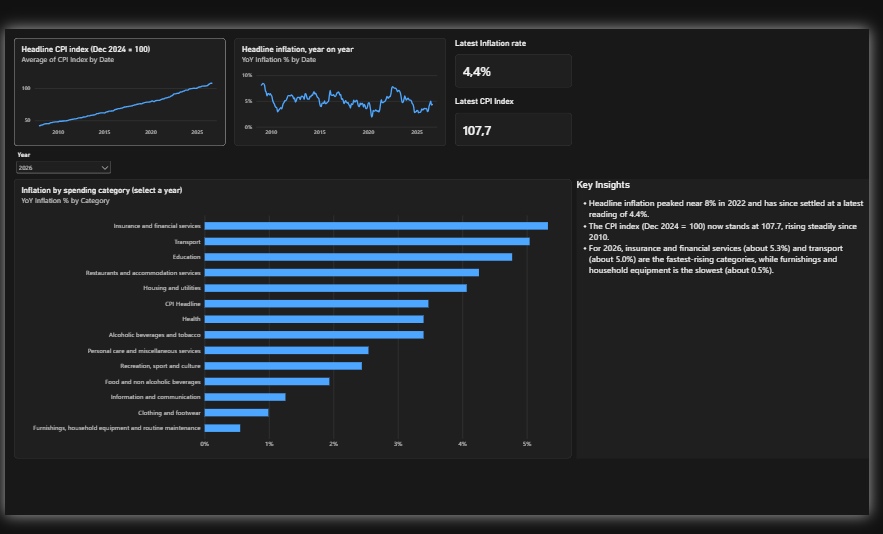

What the dashboard file says about the page in this screenshot:
{"tool":"powerbi","page":{"name":"Cost of living","canvas":[1920,1080],"ordinal":0},"visuals":[{"type":"lineChart","title":"Headline CPI index (Dec 2024 = 100)","fields":{"Category":["CPI.Date"],"Y":["Avg(CPI.CPI Index)"]},"box":[20,20,470,240],"z":2},{"type":"lineChart","title":"Headline inflation, year on year","fields":{"Category":["DateTable.Date"],"Y":["CPI.YoY Inflation %"]},"box":[510,20,470,240],"z":3},{"type":"clusteredBarChart","title":"Inflation by spending category (select a year)","fields":{"Category":["CPI.Category"],"Y":["CPI.YoY Inflation %"]},"box":[19.8,334.5,1238.7,620.8],"z":4},{"type":"slicer","fields":{"Values":["DateTable.Year"]},"box":[20,270,220,55],"z":5},{"type":"cardVisual","title":"Latest Inflation rate ","fields":{"Data":["CPI.Latest Headline Inflation %"]},"box":[1000,20,260,110],"z":6},{"type":"cardVisual","title":"Latest CPI Index","fields":{"Data":["CPI.Latest CPI Index"]},"box":[1000,150,260,110],"z":7},{"type":"textbox","title":"Key Insights","box":[1269,334,651,621],"z":8}]}

Visuals, with their boxes on the page's 1920x1080 design canvas (x1, y1, x2, y2). These are canvas units, not pixel positions in the 883x534 screenshot, which may show the page scaled, cropped or inside an application window:
"Headline CPI index (Dec 2024 = 100)" lineChart: detection(20, 20, 490, 260)
"Headline inflation, year on year" lineChart: detection(510, 20, 980, 260)
"Inflation by spending category (select a year)" clusteredBarChart: detection(20, 334, 1258, 955)
slicer - DateTable.Year: detection(20, 270, 240, 325)
"Latest Inflation rate " cardVisual: detection(1000, 20, 1260, 130)
"Latest CPI Index" cardVisual: detection(1000, 150, 1260, 260)
"Key Insights" textbox: detection(1269, 334, 1920, 955)
